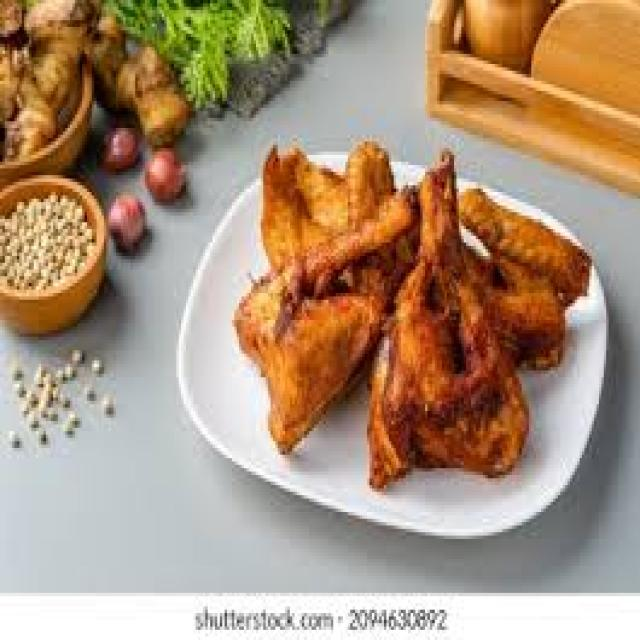Frango: (382, 286, 506, 467), (242, 269, 361, 452), (442, 211, 564, 376), (272, 147, 405, 294), (392, 184, 494, 352)
